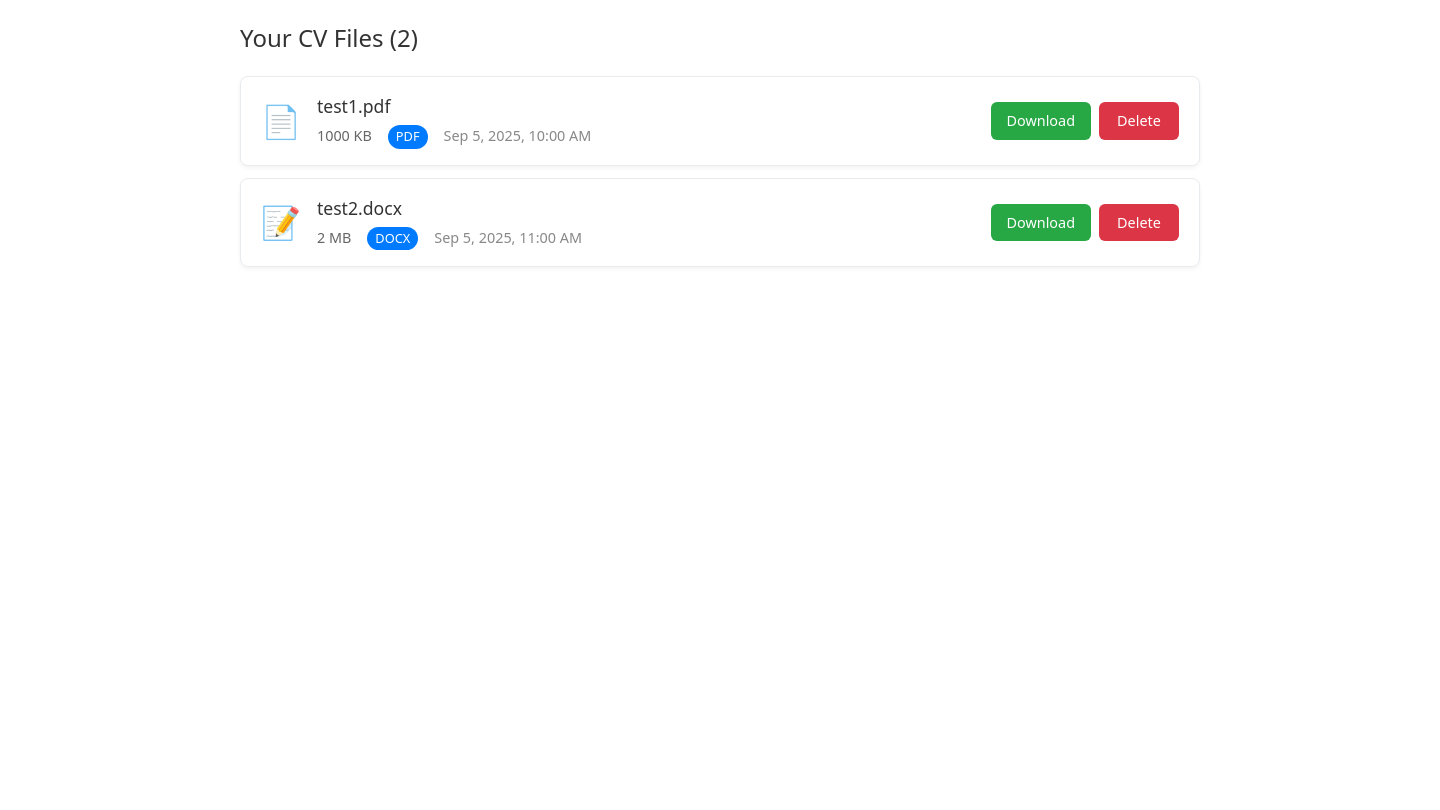
FileList Component › shows confirmation dialog for deletion
The image size is (1440, 810).
Click the button "Delete" in the row of "Sep 5, 2025, 10:00 AM" at (1139, 121), box [1099,102,1179,140]
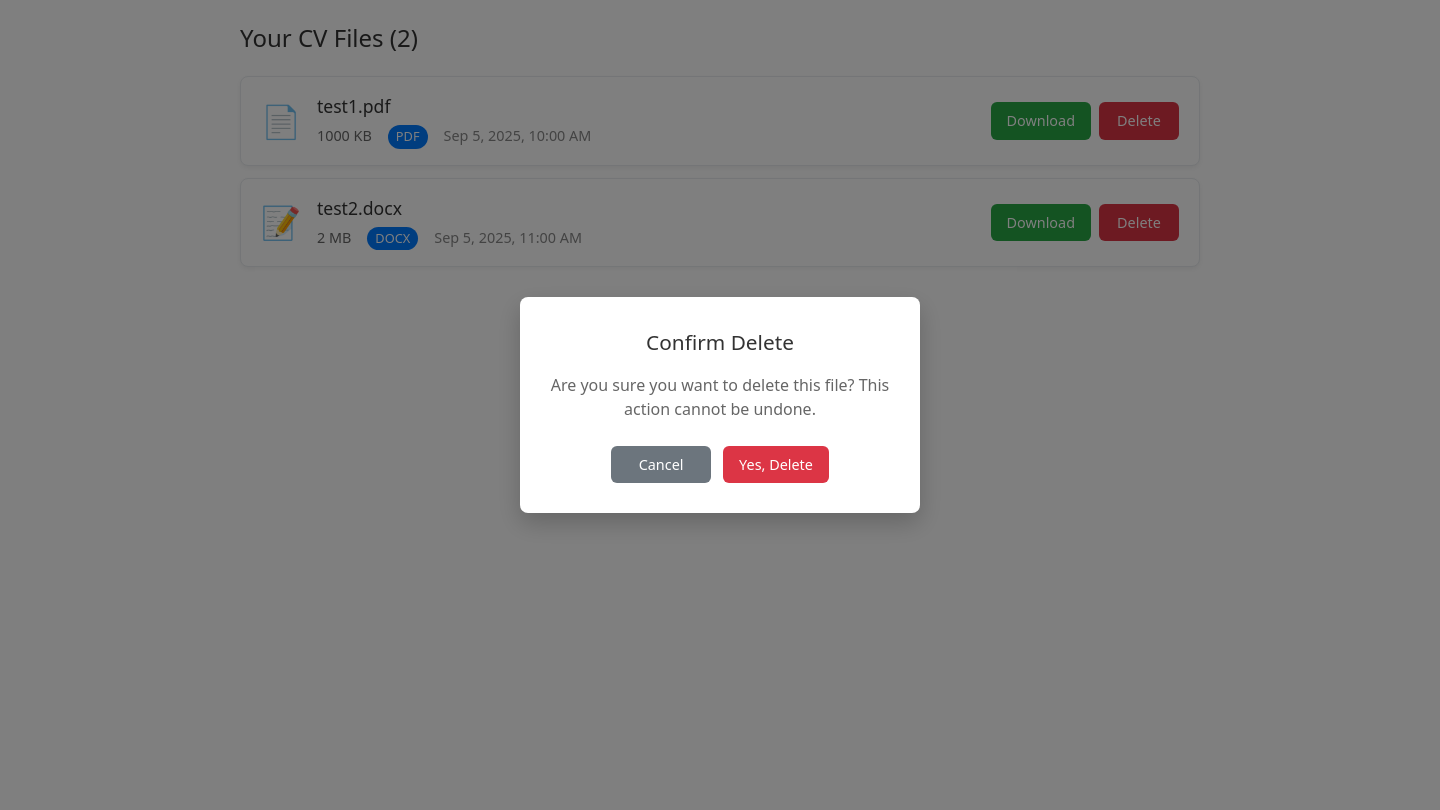
Expected: the text "This action cannot be undone" is shown, [551,374,889,420]
